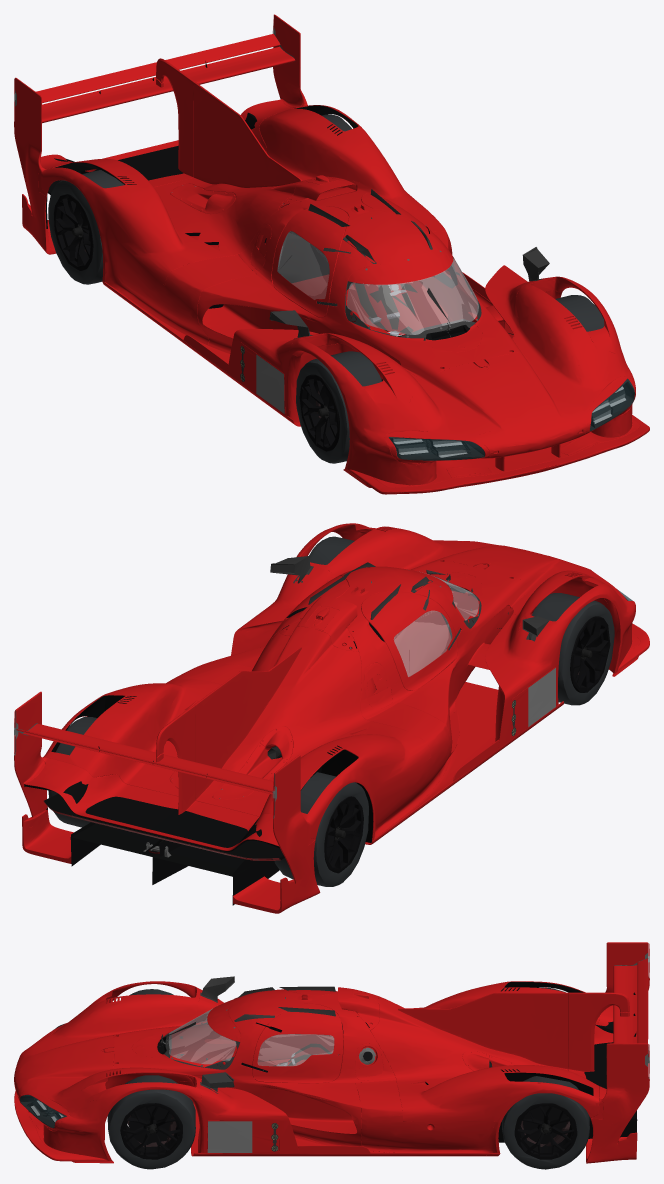
The model's file is porsche-963.glb.
3 renders of one model, top to bottom at view 1: azimuth 30°, elevation 25°; view 2: azimuth 150°, elevation 25°; view 3: azimuth 270°, elevation 25°, orthographic. The views are drawn at different scales.
Parts seen in each view (by area): view 1: BODY, GLASS, WHEEL_RF, WHEEL_RR, WHEEL_LF; view 2: BODY, WHEEL_RF, WHEEL_RR, GLASS, WHEEL_LR, WHEEL_LF; view 3: BODY, WHEEL_LF, WHEEL_LR, GLASS.
Part boxes in pixels (left/top/right/bottom): BODY: left=14, top=14, right=649, bottom=494; GLASS: left=14, top=15, right=634, bottom=460; WHEEL_RF: left=296, top=351, right=381, bottom=463; WHEEL_RR: left=48, top=170, right=124, bottom=284; WHEEL_LF: left=555, top=295, right=604, bottom=331; BODY: left=14, top=523, right=649, bottom=913; WHEEL_RF: left=531, top=593, right=614, bottom=705; WHEEL_RR: left=274, top=772, right=368, bottom=886; GLASS: left=14, top=573, right=632, bottom=860; WHEEL_LR: left=48, top=717, right=97, bottom=827; WHEEL_LF: left=309, top=536, right=354, bottom=564; BODY: left=14, top=942, right=649, bottom=1163; WHEEL_LF: left=107, top=1075, right=195, bottom=1169; WHEEL_LR: left=502, top=1076, right=589, bottom=1169; GLASS: left=20, top=943, right=649, bottom=1127.
Bounding box in the file's own units: 2 × 1.1 × 5.02.
